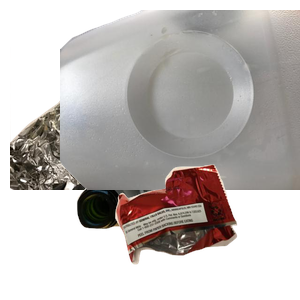glass: (74, 158, 223, 300)
metal: (10, 47, 216, 227)
plastic: (60, 10, 300, 190)
trash: (113, 162, 300, 300)
